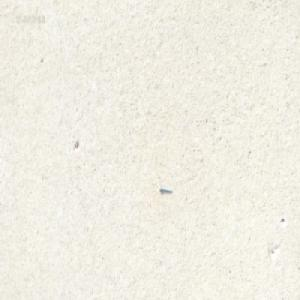Nail: (159, 185, 172, 194)
